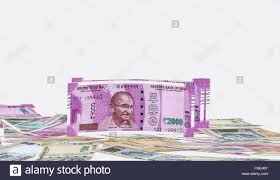twoThousand: (80, 89, 184, 130)
